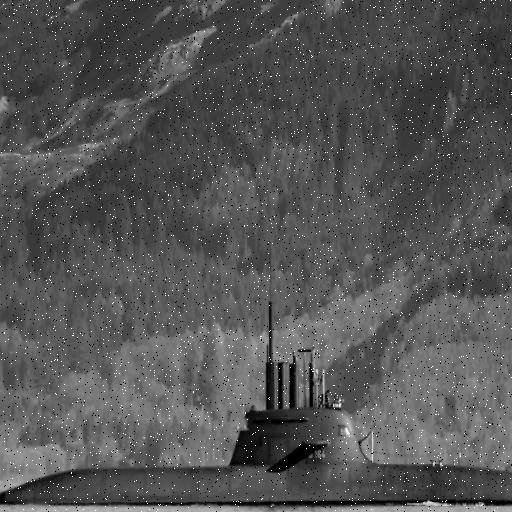submarine: (1, 236, 512, 501)
